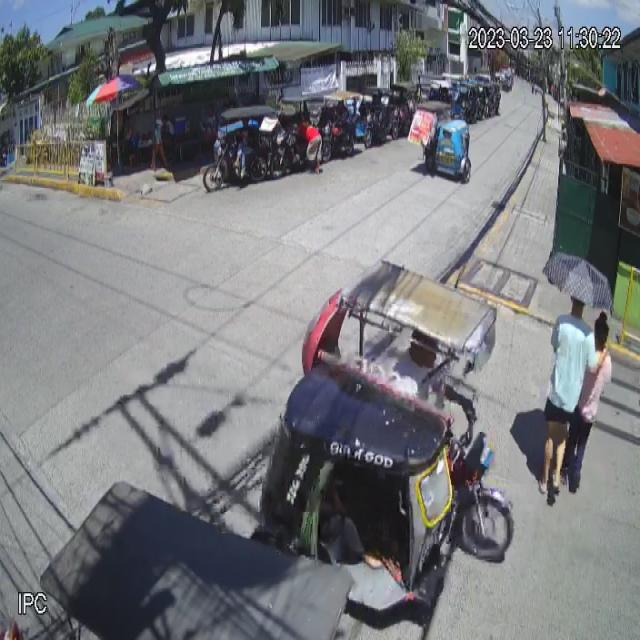Tricycle: (260, 257, 514, 602), (408, 100, 472, 184)
